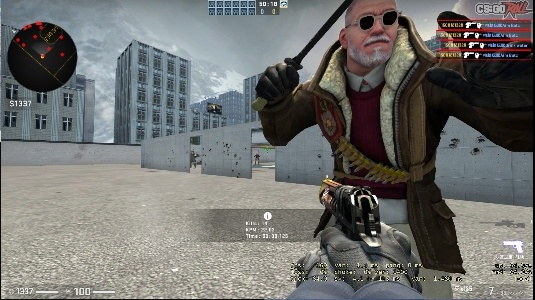body: (260, 1, 531, 296), (190, 150, 198, 170), (254, 153, 261, 166)
head: (337, 2, 399, 64), (191, 150, 195, 154), (256, 152, 259, 156)
